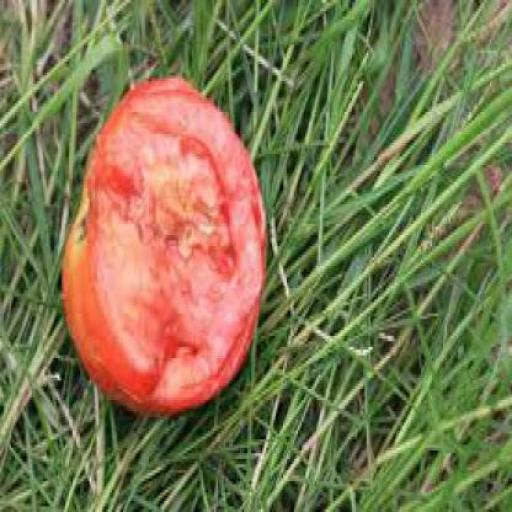biodegradable: (0, 0, 511, 510), (58, 70, 268, 412)
